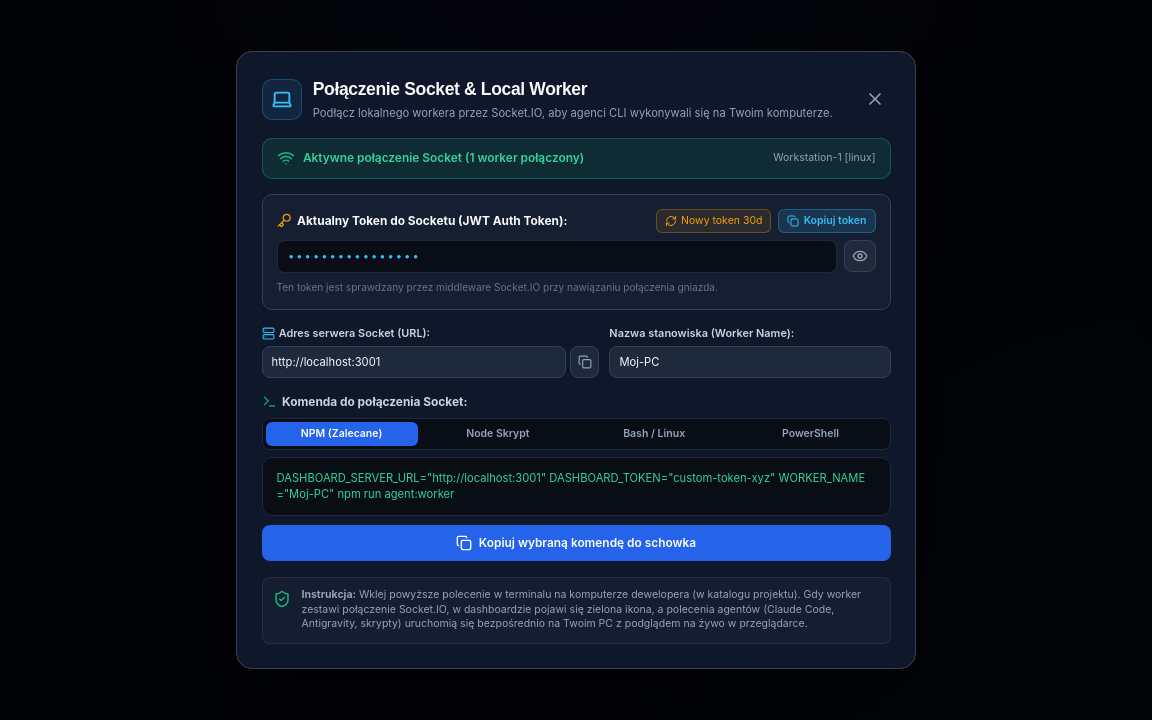
LocalWorkerModal › renders title, current socket token and connection commands when open
Check: the heading "Połączenie Socket & Local Worker" is shown, box [313,79,587,99]
Check: the text "Aktualny Token do Socketu (JWT Auth Token):" is shown, box [276,212,567,230]
# Switch command tab to Node
Click the button "Node Skrypt" at (498, 434), box [422,422,574,446]
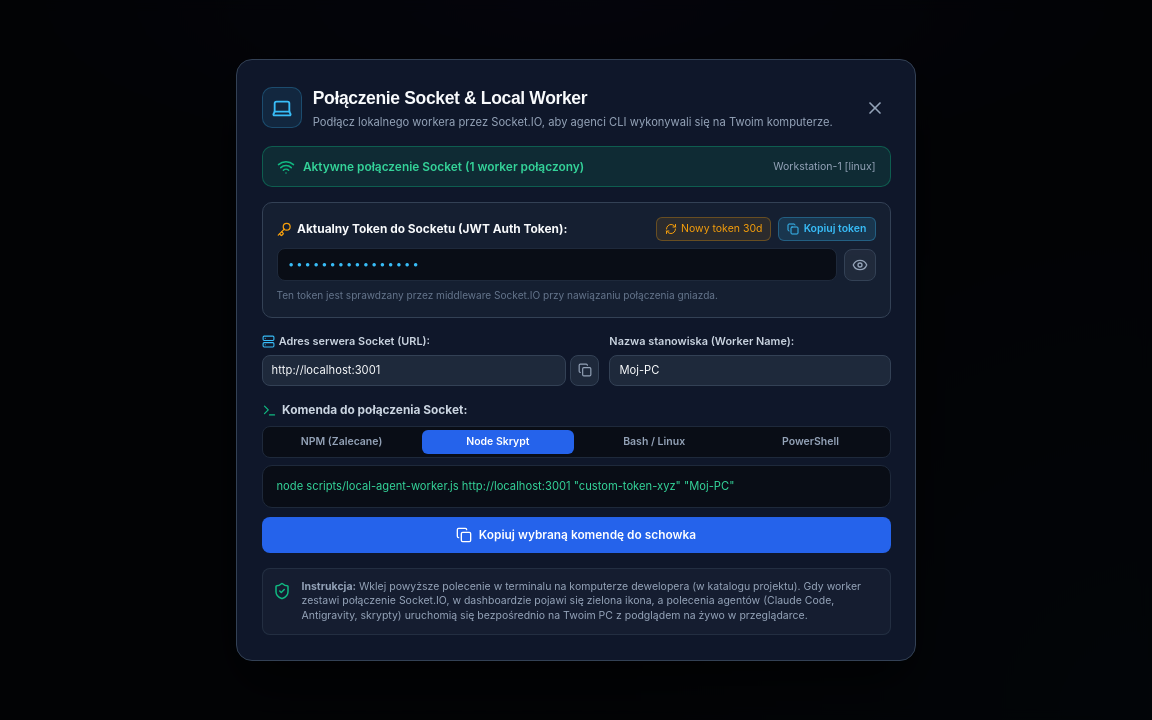
Check: the text "node scripts/local-agent-worker.js" is shown, box [276,479,734,493]
